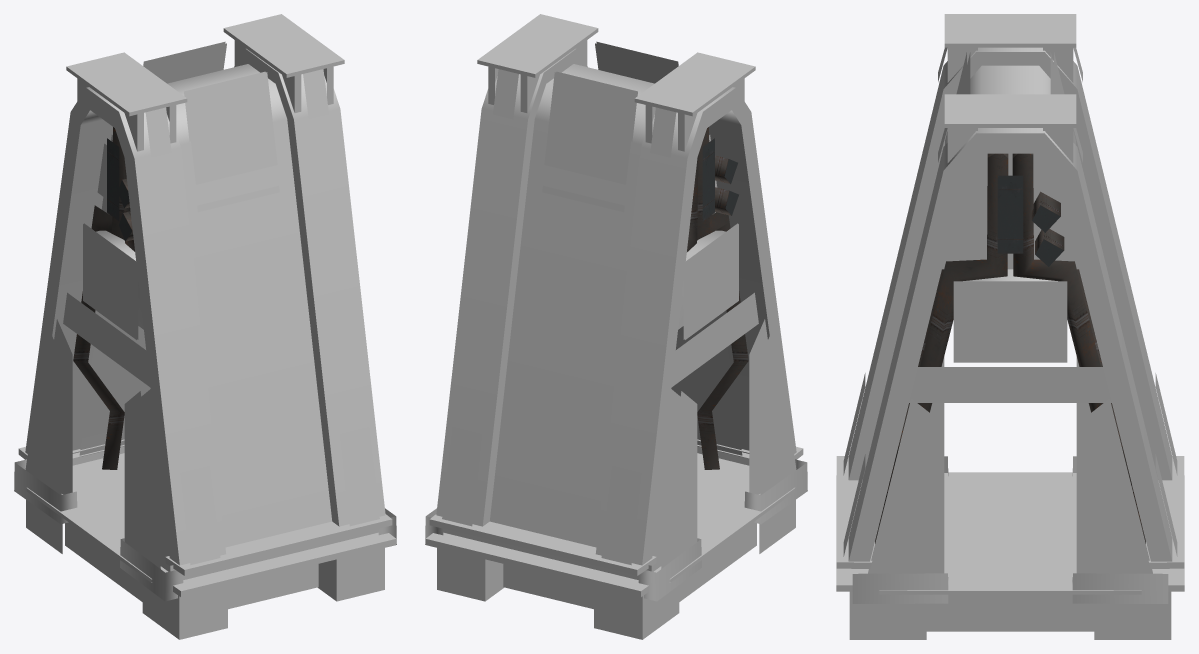
The model's file is Radiator_Big_L4.fbx.
3 renders of one model, left to right at view 1: azimuth 30°, elevation 25°; view 2: azimuth 150°, elevation 25°; view 3: azimuth 270°, elevation 25°, orthographic. The views are drawn at different scales.
Parts seen in each view (by area): view 1: Element3, Element4, Element5, Element2, Element1; view 2: Element3, Element4, Element5, Element2, Element1; view 3: Element3, Element4, Element2, Element1, Element5.
Part boxes in pixels (x1,y1,x2,y2): Element3: (18, 48, 396, 597); Element4: (14, 14, 396, 639); Element5: (97, 41, 279, 212); Element2: (73, 127, 134, 469); Element1: (83, 223, 138, 339); Element3: (425, 48, 803, 597); Element4: (425, 14, 807, 639); Element5: (542, 41, 678, 212); Element2: (687, 127, 748, 469); Element1: (683, 223, 738, 339); Element3: (836, 47, 1184, 594); Element4: (843, 14, 1177, 639); Element2: (875, 153, 1145, 543); Element1: (953, 281, 1067, 362); Element5: (945, 52, 1075, 247).
Size of the model in its own units: 591 by 1203 by 732.
